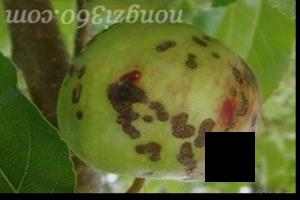rotten apple: (50, 22, 272, 188)
